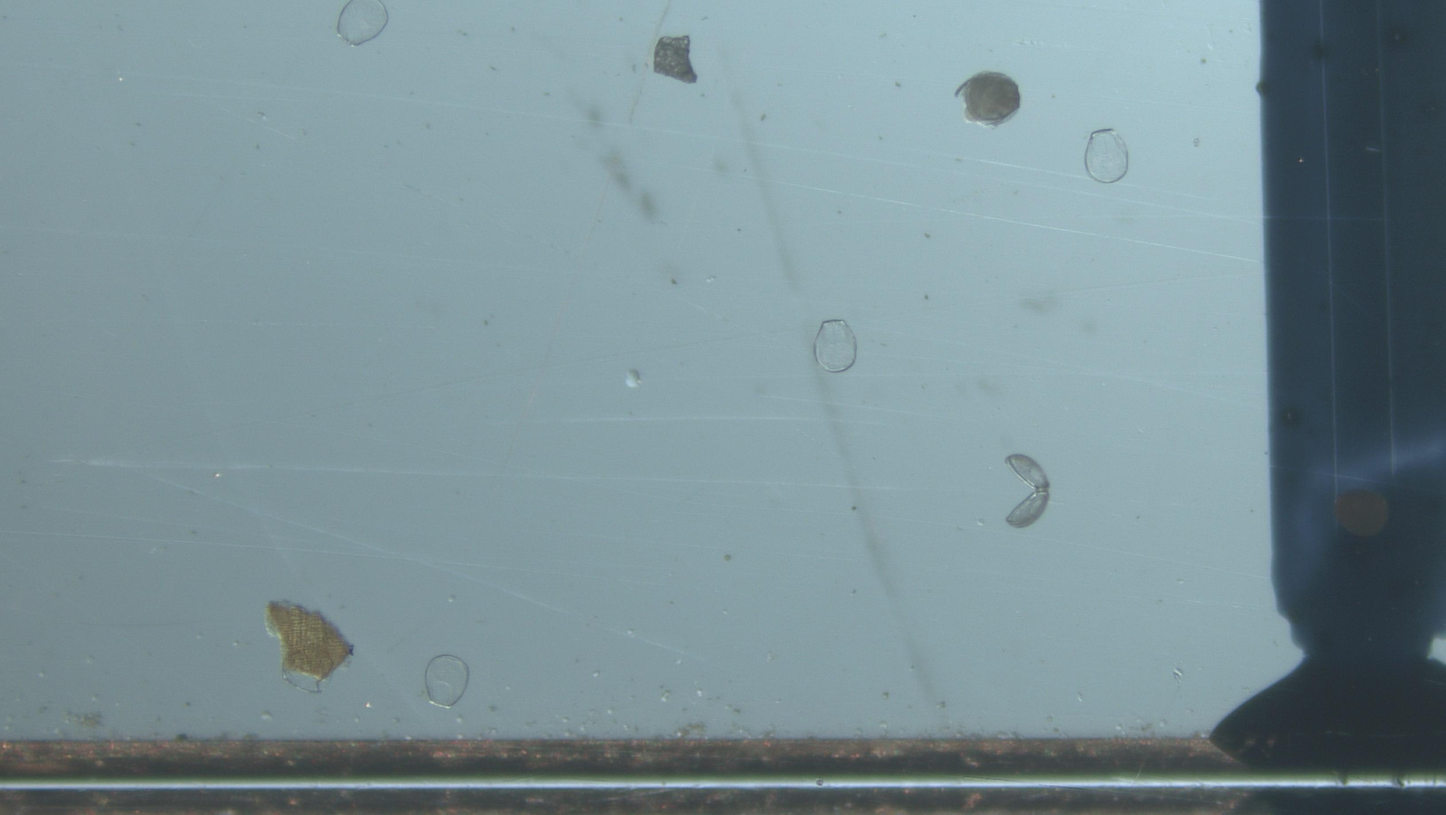dead: (1084, 128, 1129, 183), (336, 0, 389, 46), (425, 655, 469, 709), (815, 320, 856, 373)
live: (955, 71, 1021, 127)
